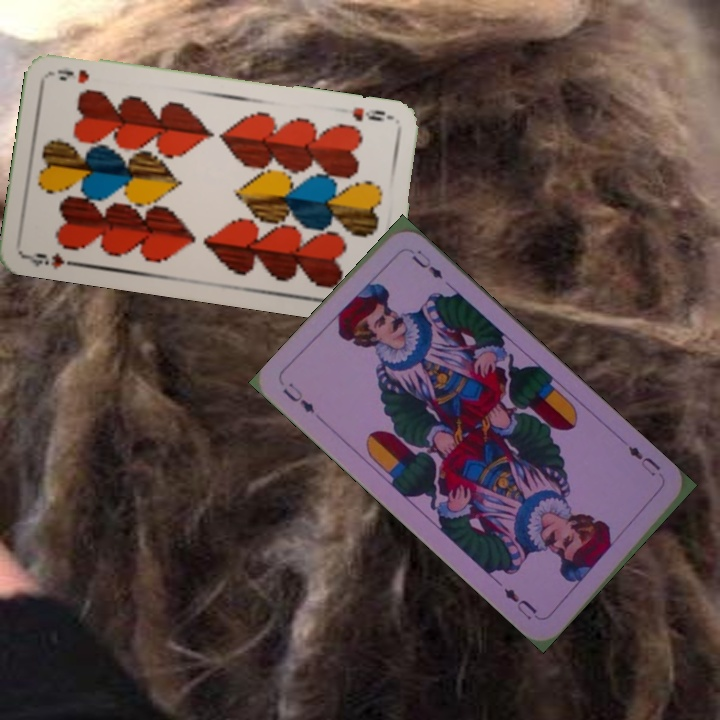EU: (278, 378, 318, 416), (624, 442, 663, 479)
H9: (22, 249, 81, 272), (348, 103, 388, 124)
